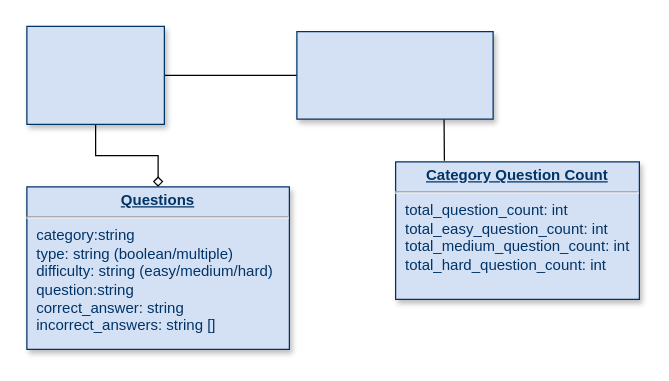
This 669x381 diagram has some shape labels left out. Each missing label, with the centre of its shape:
Category Count category_id: int category_question_count: [396,76]
Category id: int name: string: [96,76]
